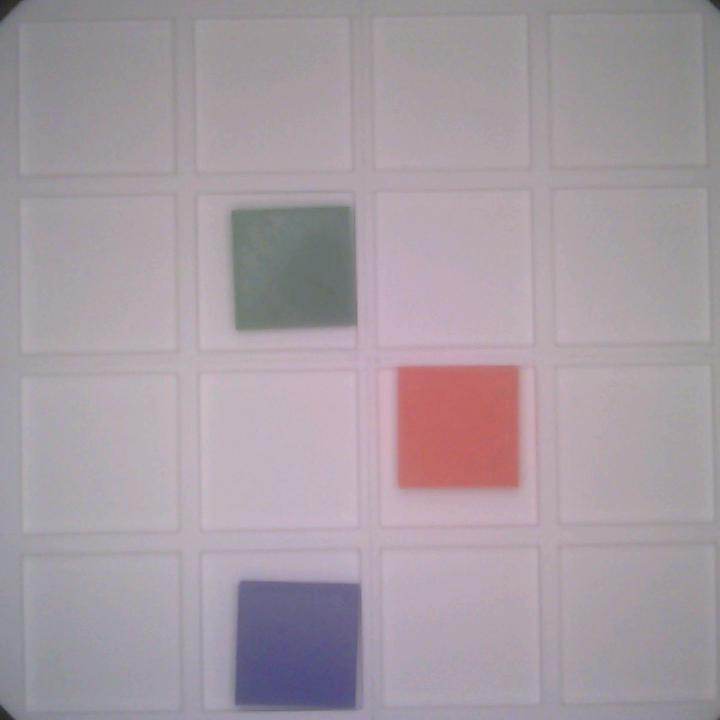Blue square: (231, 570, 367, 710)
Green square: (228, 201, 357, 335)
Orange square: (394, 361, 524, 495)
